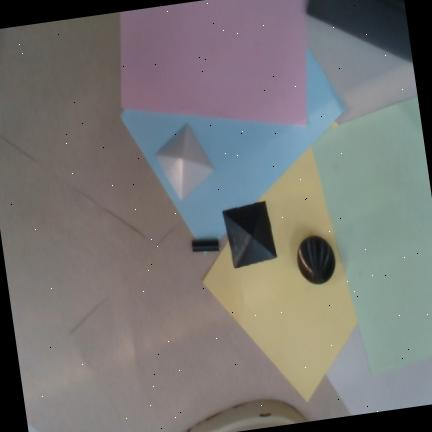Cilindro: (191, 239, 219, 251)
Esfera: (296, 235, 335, 284)
Piramide: (154, 121, 216, 202), (222, 200, 277, 268)
